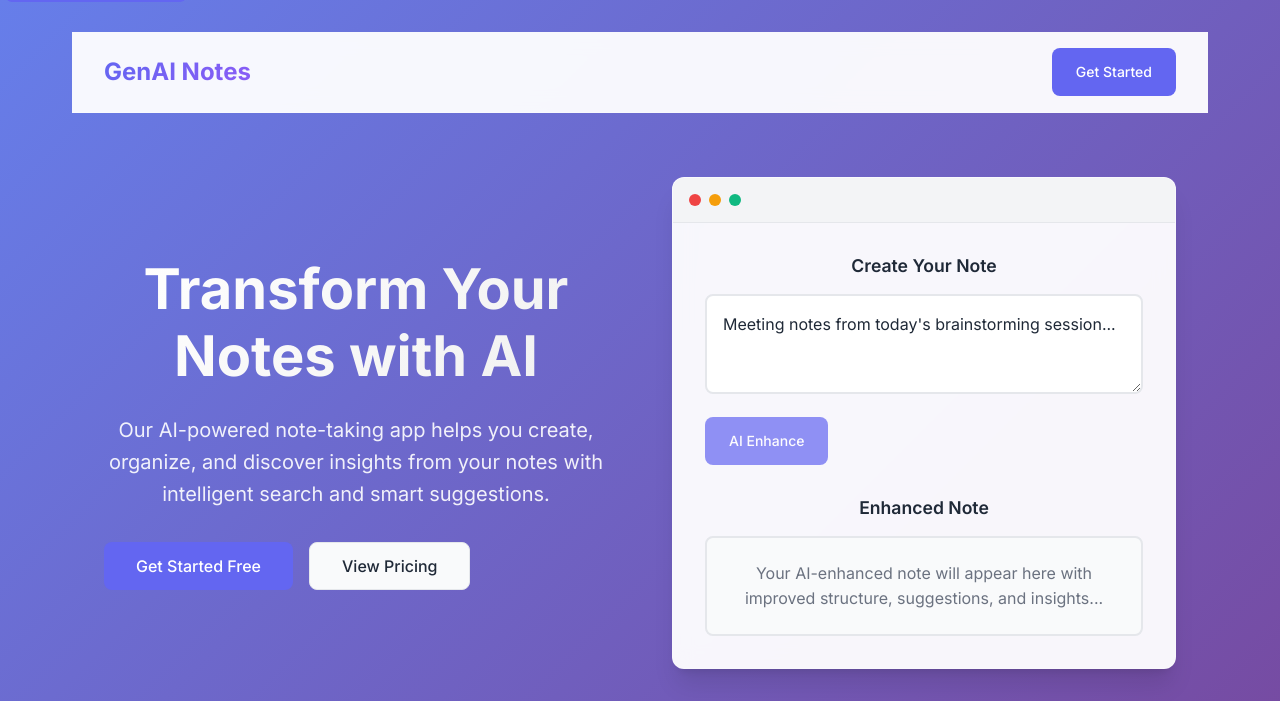
Navigation Tests › should navigate through all main routes
Expected: the heading "Transform Your Notes with AI" is shown, left=104, top=256, right=608, bottom=390
Navigate to notes page
Step 1. Click the link "Get Started Free" → (199, 566), box left=104, top=542, right=293, bottom=590
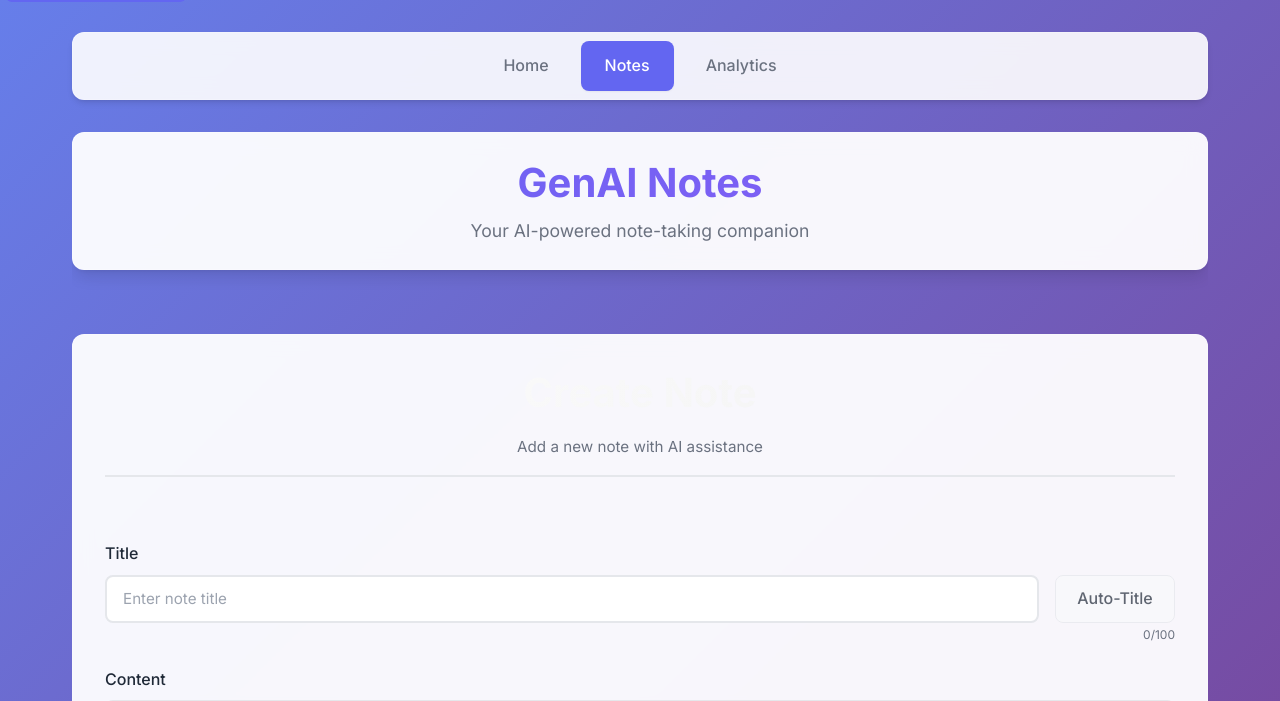
Navigate to analytics page
Step 2. Click the link "Analytics" → (742, 65), box left=706, top=55, right=777, bottom=75
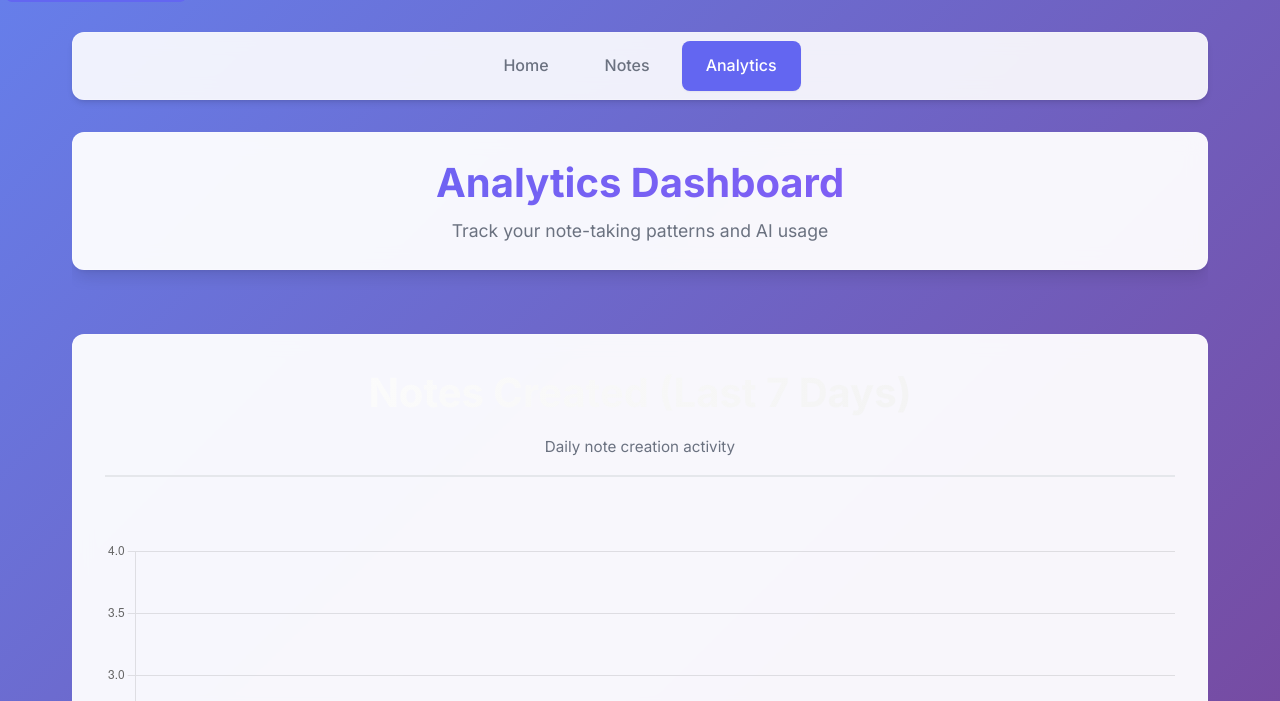
Result: the heading "Analytics Dashboard" is shown at left=97, top=157, right=1183, bottom=209
Navigate back to notes
Step 3. Click the link "Notes" → (628, 65), box left=605, top=55, right=650, bottom=75
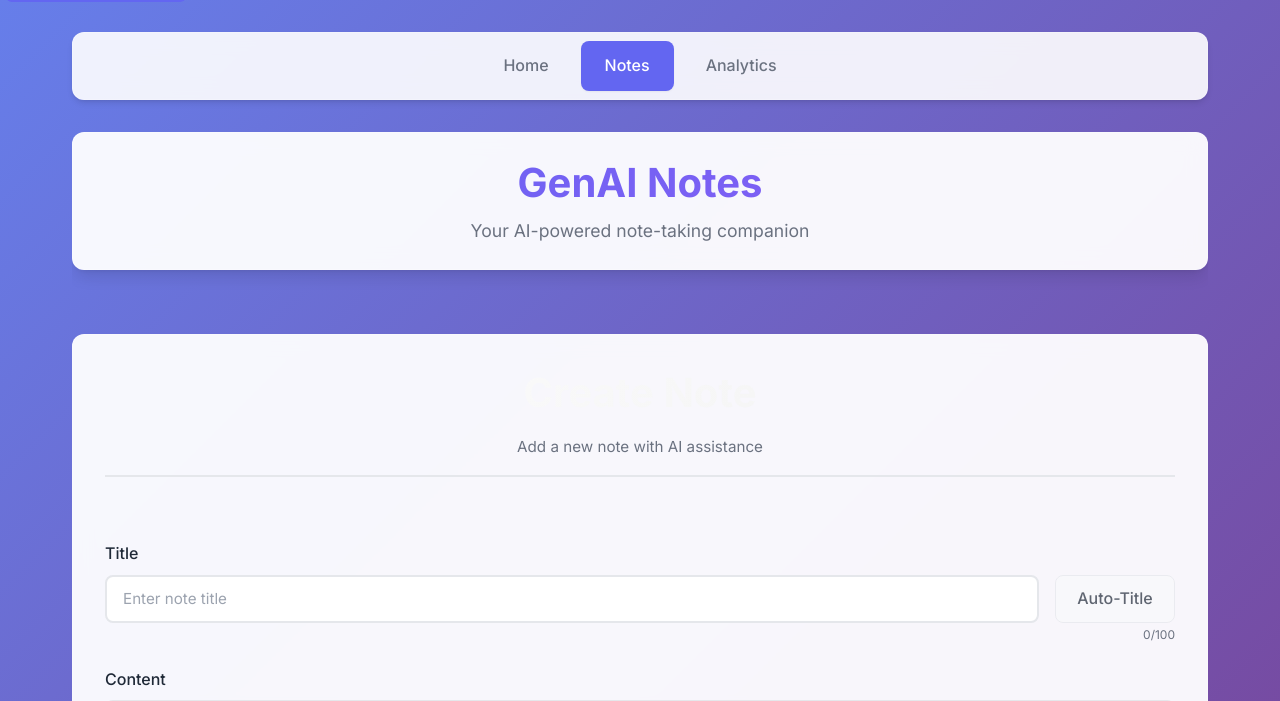
Navigate back to home
Step 4. Click the link "Home" → (526, 65), box left=503, top=55, right=548, bottom=75
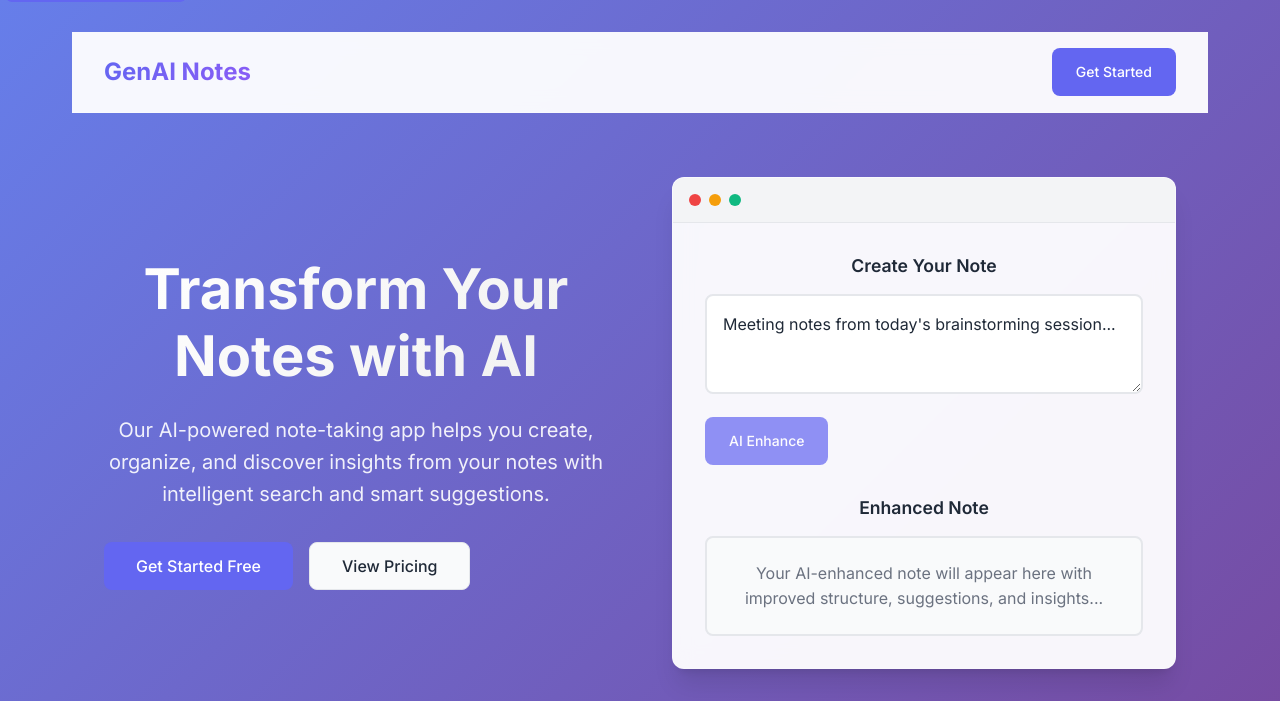
Result: the heading "Transform Your Notes with AI" is shown at left=104, top=256, right=608, bottom=390
